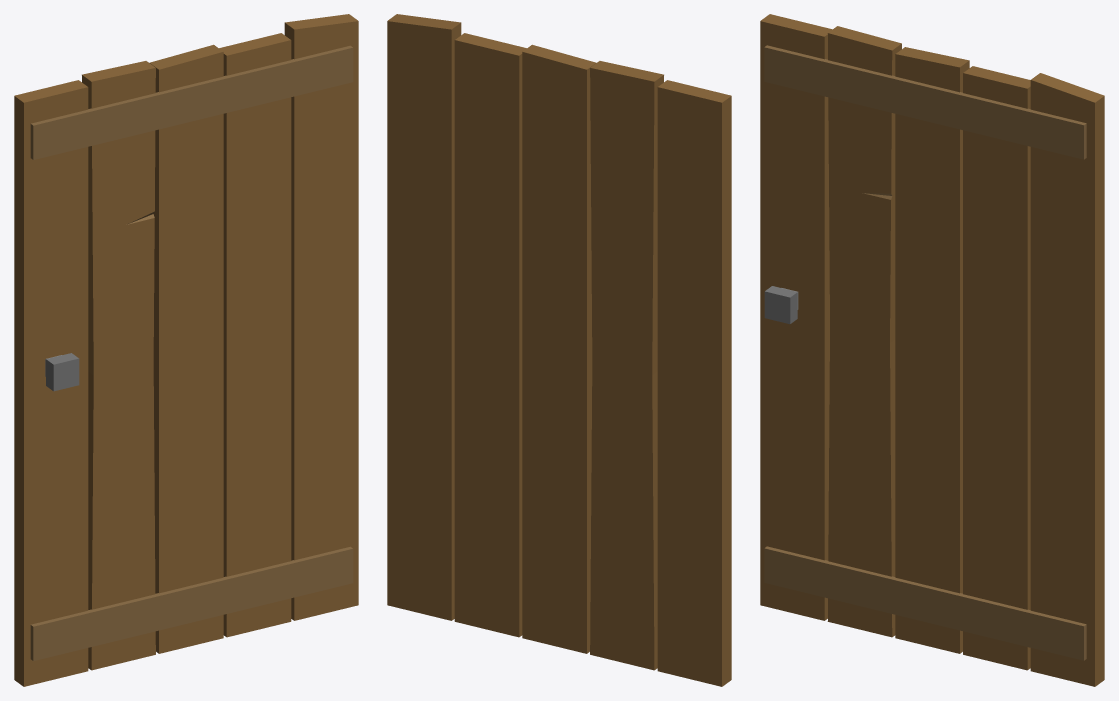
Rendered from Toilet_02.fbx.
3 renders of one model, left to right at view 1: azimuth 30°, elevation 25°; view 2: azimuth 150°, elevation 25°; view 3: azimuth 330°, elevation 25°, orthographic.
Visible parts, largest first — view 1: Toilet_02; view 2: Toilet_02; view 3: Toilet_02.
Boxes of the visible parts, box(x1,y1,x2,y2) form: Toilet_02: box(14, 14, 358, 686); Toilet_02: box(387, 14, 731, 686); Toilet_02: box(760, 14, 1104, 686).
Size of the model in its own units: 120 by 202 by 13.86.
